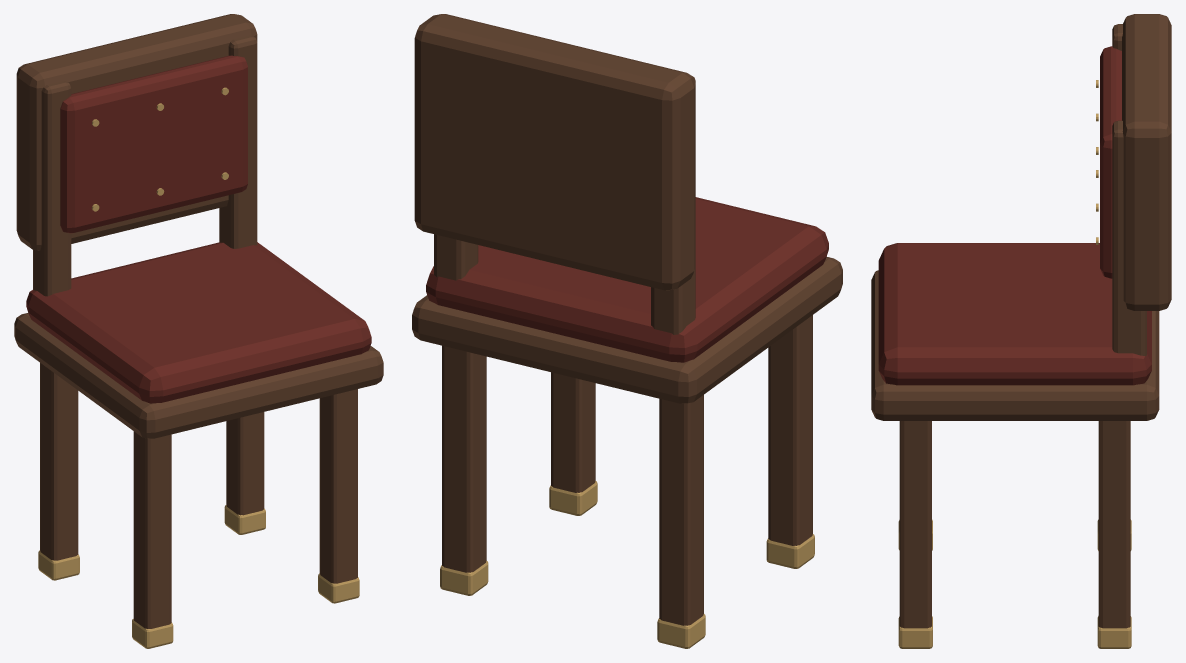
The model's file is gaming-chair.glb.
The picture shows the model from 3 angles, left to right: view 1: azimuth 30°, elevation 25°; view 2: azimuth 150°, elevation 25°; view 3: azimuth 270°, elevation 25°; orthographic projection. The views are drawn at different scales.
Visible parts, largest first — view 1: chair seat frame, chair seat cushion, chair foot cap; view 2: chair seat frame, chair seat cushion, chair foot cap; view 3: chair seat frame, chair seat cushion, chair foot cap.
Part boxes in pixels (x1,y1,x2,y2): chair seat frame: (14, 14, 383, 628); chair seat cushion: (26, 55, 371, 403); chair foot cap: (38, 87, 359, 648); chair seat frame: (412, 14, 842, 625); chair seat cushion: (426, 197, 828, 362); chair foot cap: (440, 481, 814, 648); chair seat frame: (871, 14, 1171, 628); chair seat cushion: (878, 46, 1151, 385); chair foot cap: (898, 80, 1131, 648).
Size of the model in its own units: 0.6 by 1.17 by 0.605.
